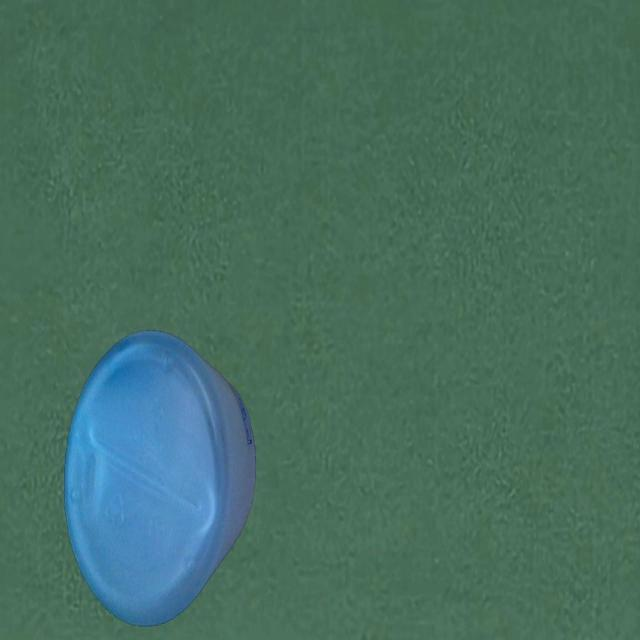bottle: (63, 328, 257, 628)
